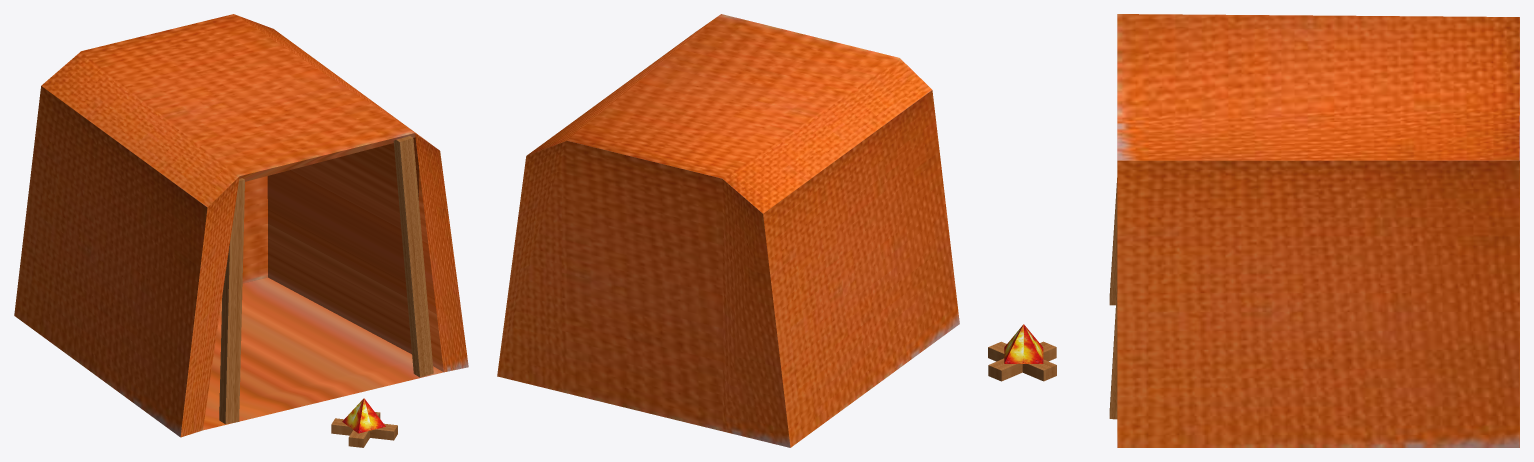
Rendered from cuartelNivel2.fbx.
3 renders of one model, left to right at view 1: azimuth 30°, elevation 25°; view 2: azimuth 150°, elevation 25°; view 3: azimuth 270°, elevation 25°, orthographic. The views are drawn at different scales.
Parts seen in each view (by area): view 1: Box011, Box016, Box014, Box010, Box008; view 2: Box011; view 3: Box011, Box010, Box009, Box008, Box016, Box014.
Part boxes in pixels (x1,y1,x2,y2): Box011: (14, 14, 468, 437); Box016: (393, 136, 433, 377); Box014: (219, 178, 244, 424); Box010: (342, 398, 385, 433); Box008: (331, 418, 397, 440); Box011: (497, 14, 959, 447); Box011: (1117, 14, 1519, 447); Box010: (1004, 324, 1043, 363); Box009: (988, 341, 1056, 381); Box008: (988, 341, 1056, 381); Box016: (1109, 286, 1117, 419); Box014: (1109, 178, 1117, 305).
Size of the model in its own units: 1 by 0.8331 by 1.32.
3 materials, 3 textured.
